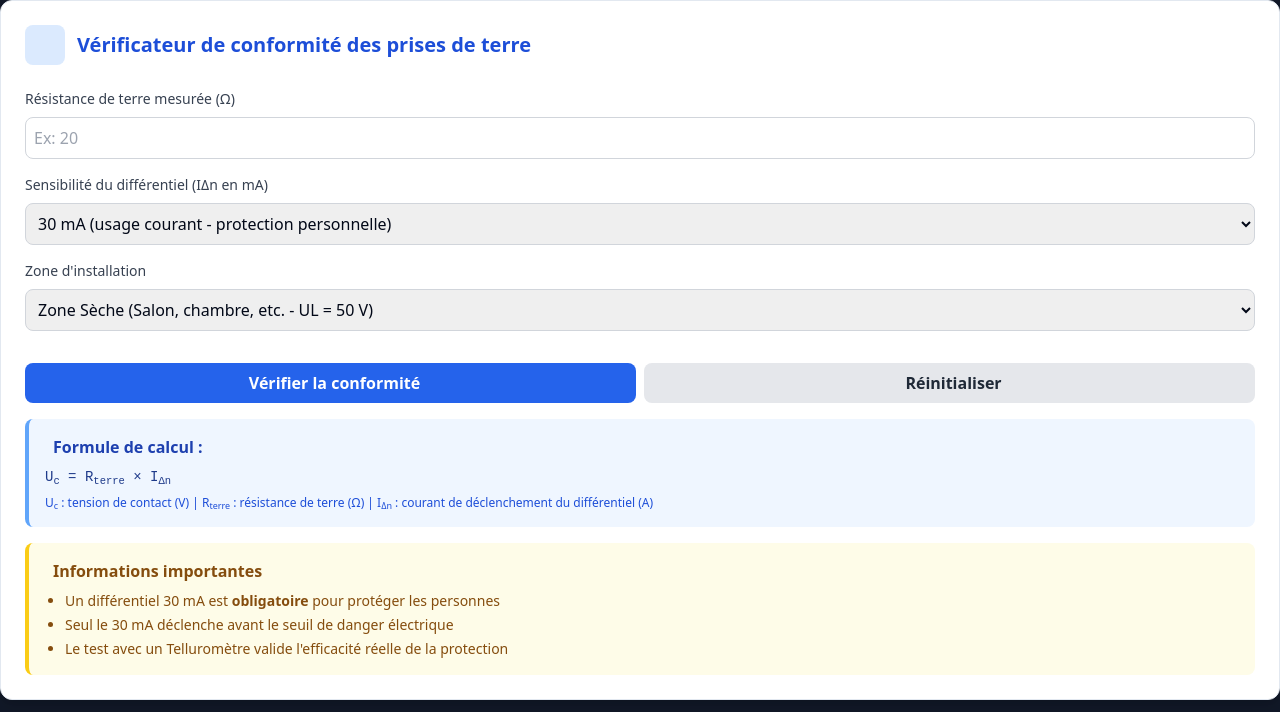
it: EarthResistanceChecker › calculates non-compliant result for high resistance
The image size is (1280, 712).
Select "Zone Humide (Salle de bains, cuisine, etc. - UL = 25 V)" in the dropdown named "Zone d'installation" at point(640, 310), box [25,289,1255,331]
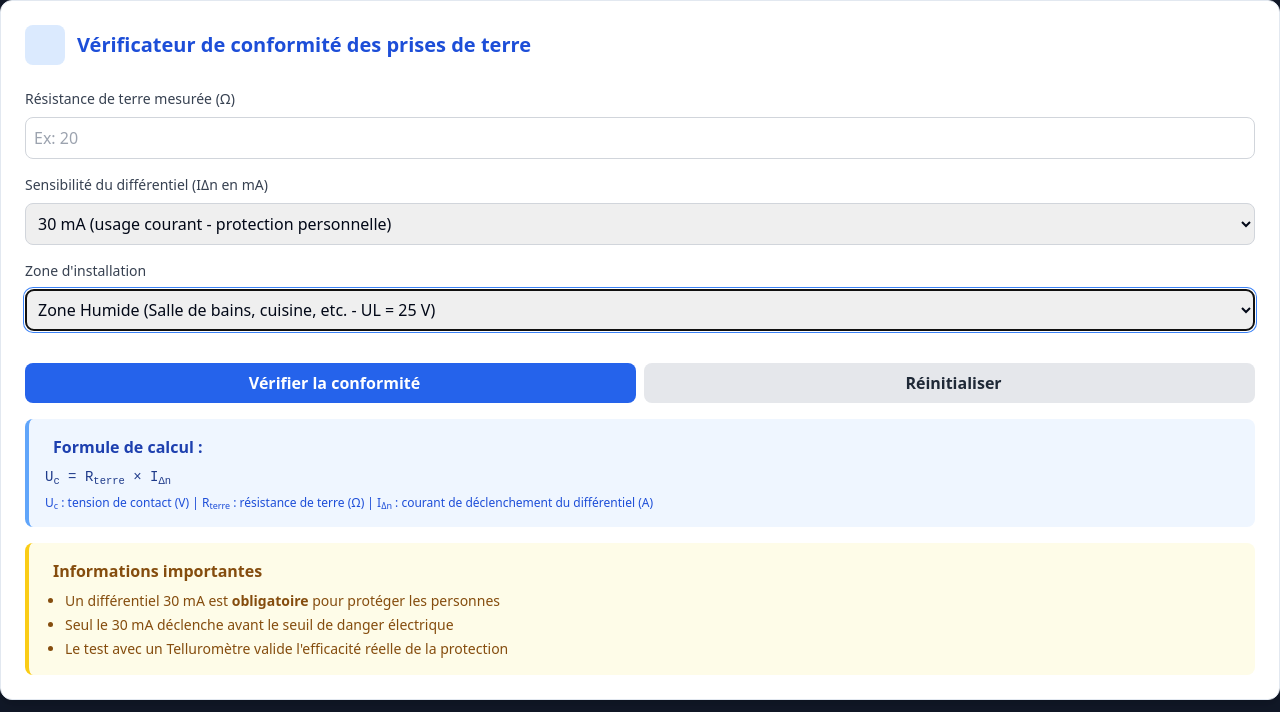
Select "500 mA" in the dropdown named "Sensibilité du différentiel" at point(640, 224), box [25,203,1255,245]
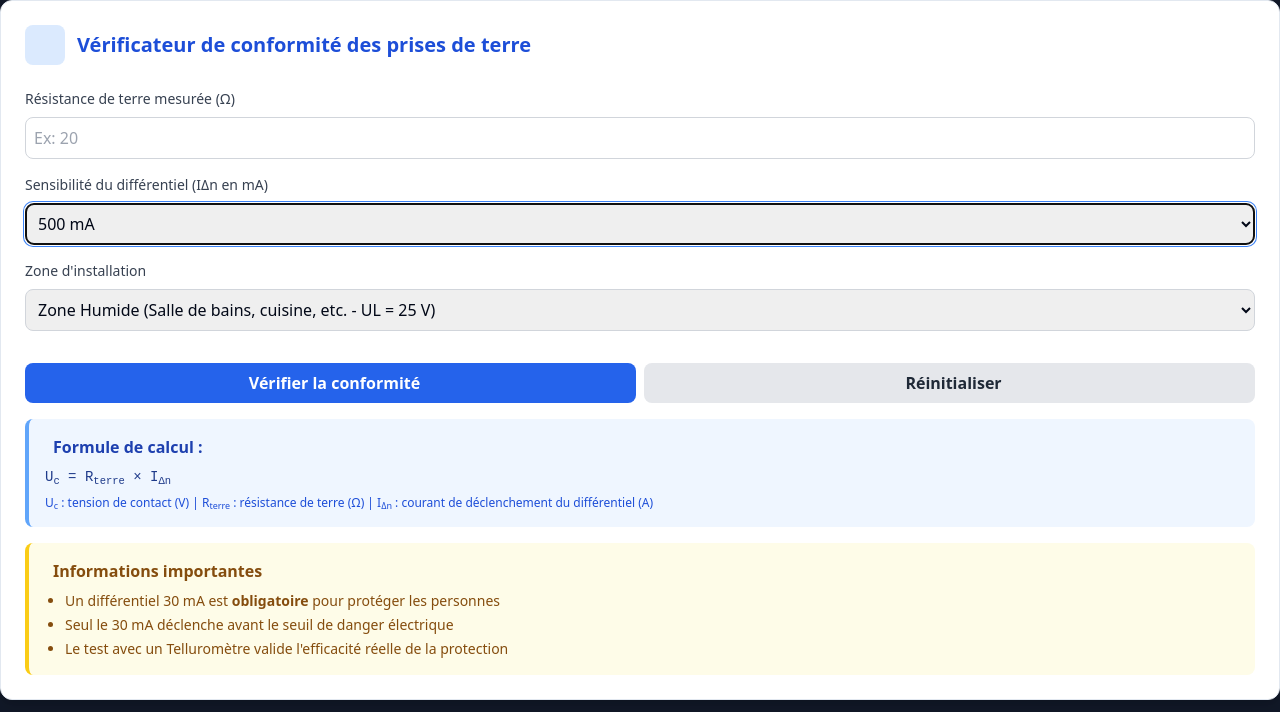
Type "100" into the number field with placeholder "Ex: 20" at point(640, 138), box [25,117,1255,159]
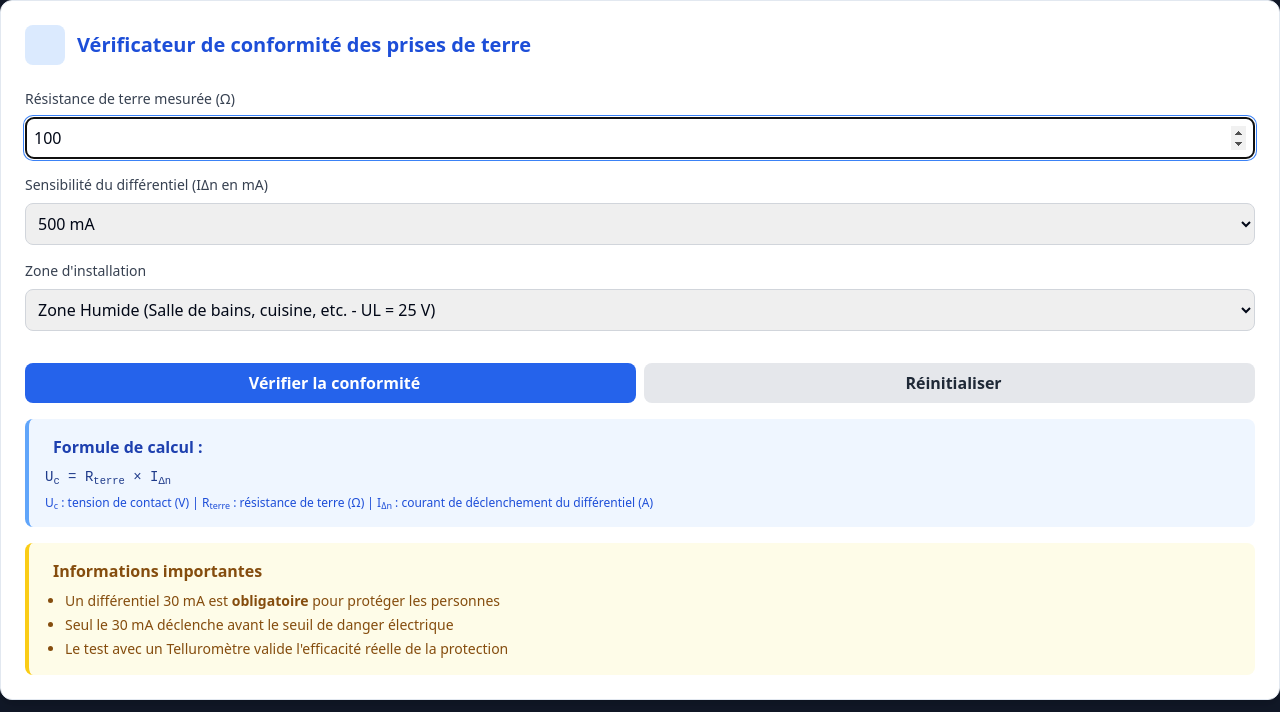
Click the button "Vérifier la conformité" at point(330, 383), box [25,363,636,403]
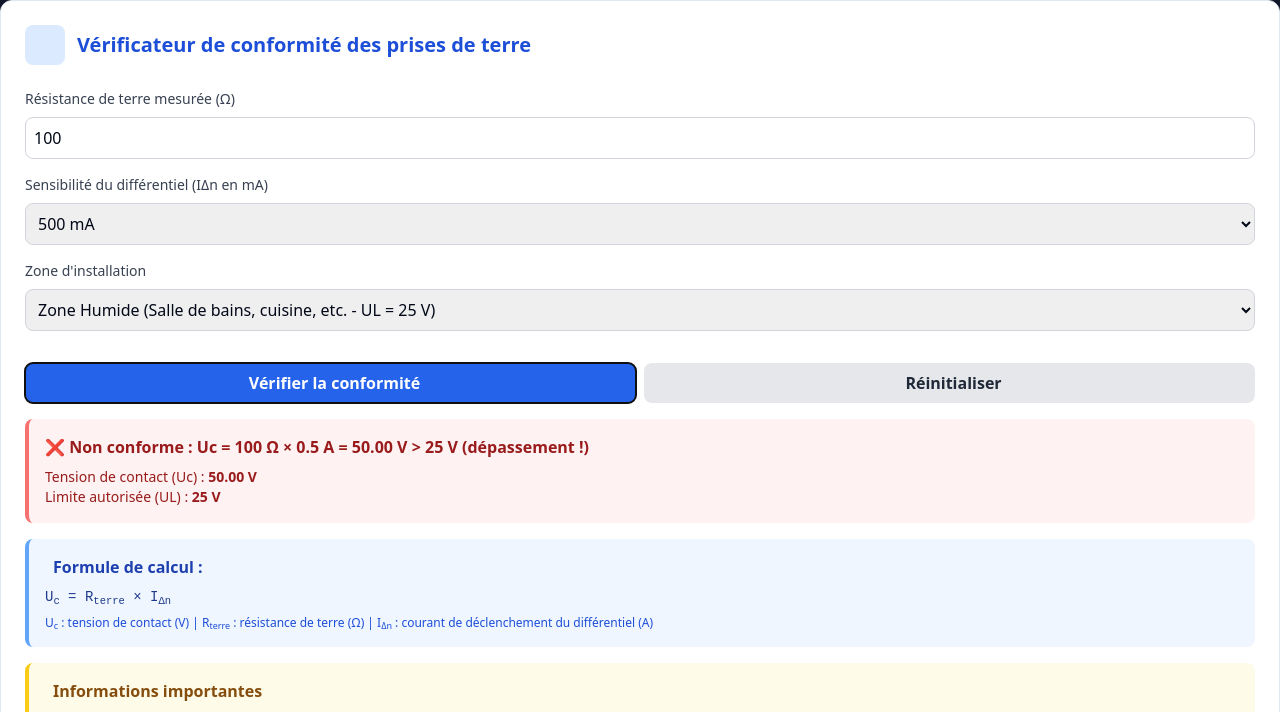
expect the text "❌ Non conforme" is shown: met, box [45,436,589,458]
